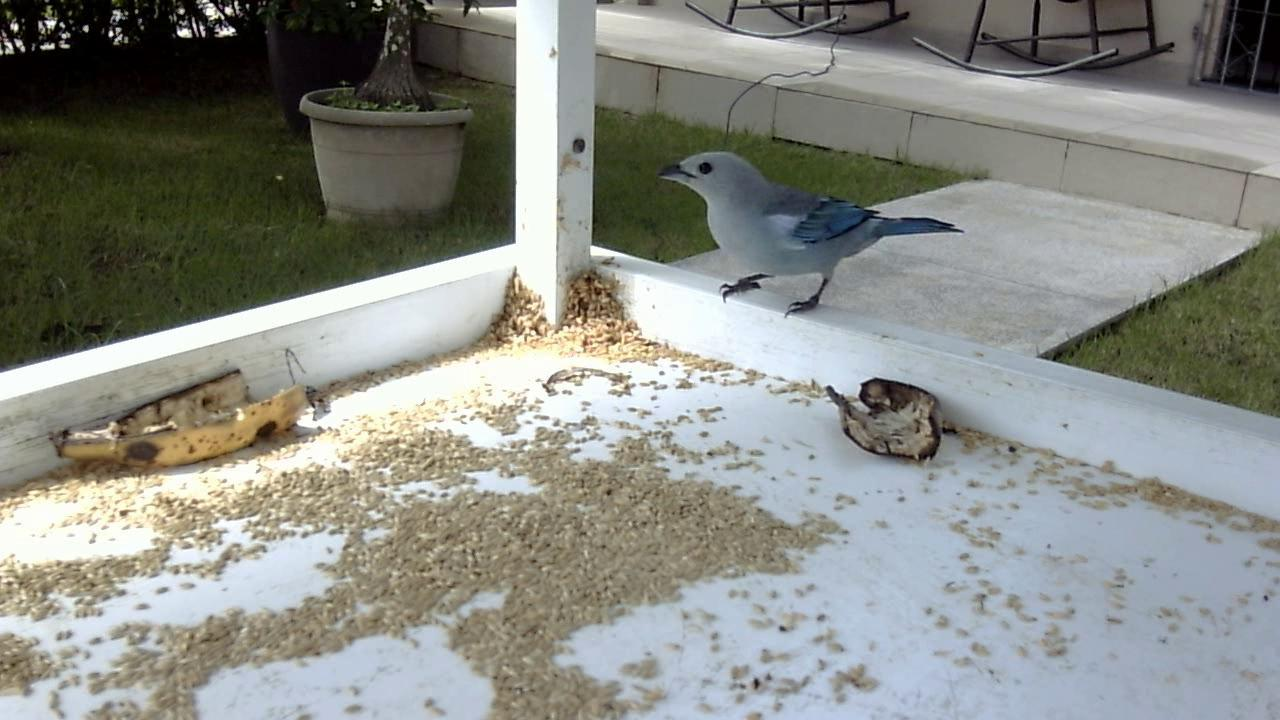sanhaco_da_amazonia: (655, 146, 966, 329)
